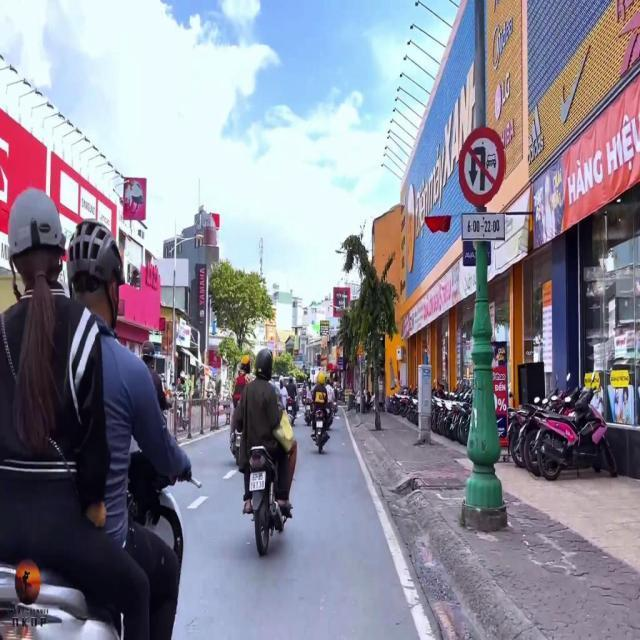124a-cam-quay-dau-xe: (458, 126, 506, 206)
